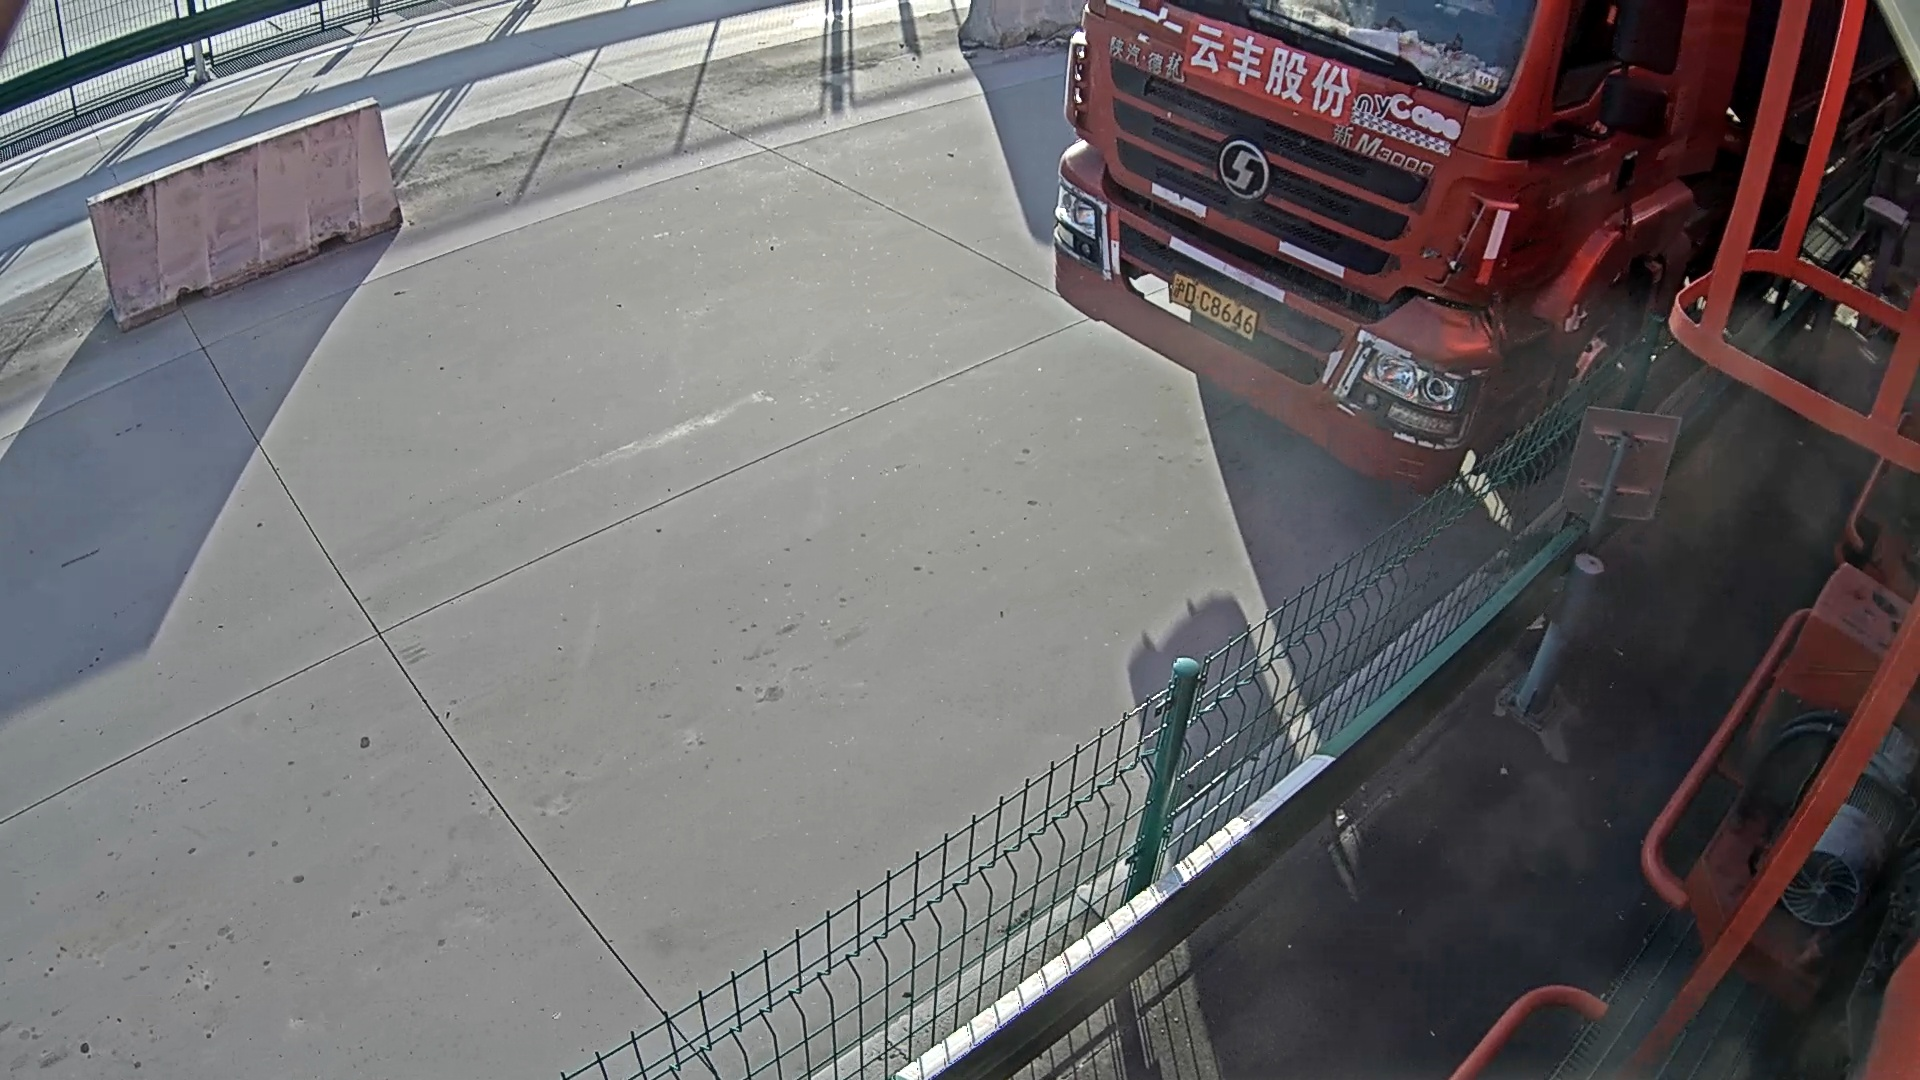head: (1072, 4, 1560, 519)
plate: (1164, 251, 1272, 356)
